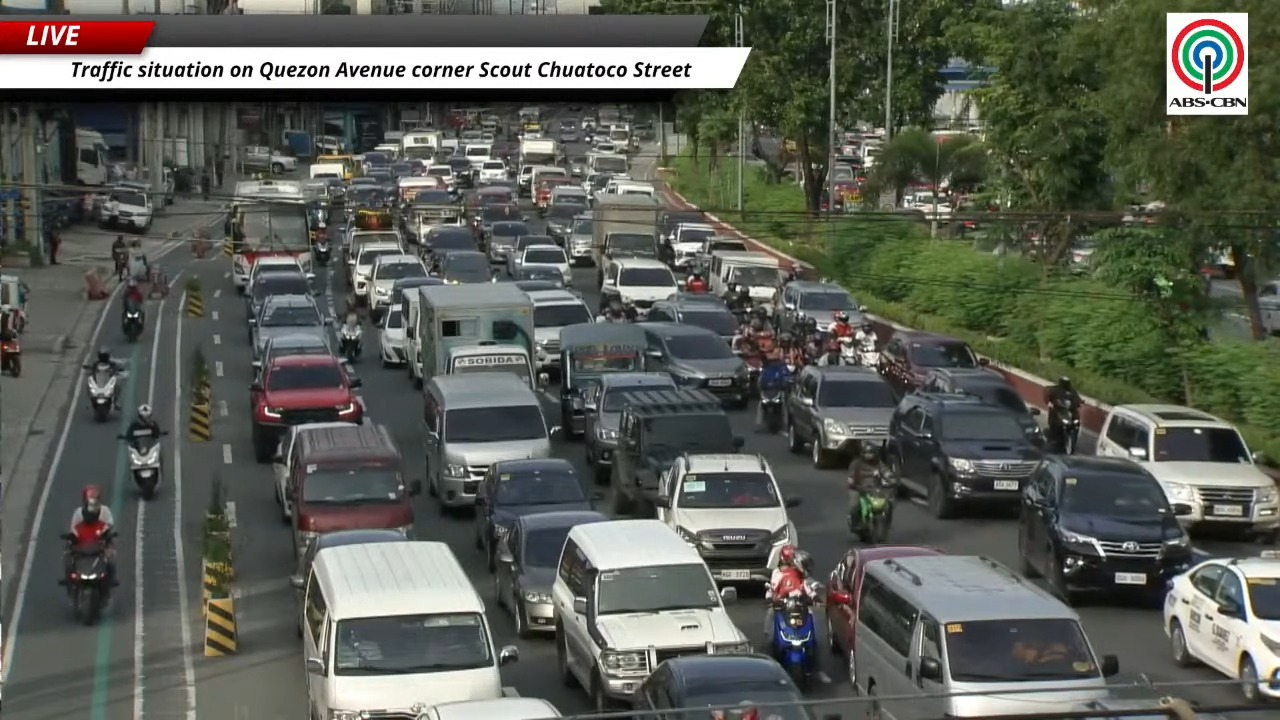bus: (228, 180, 311, 291), (314, 155, 357, 181)
car: (1018, 455, 1192, 604), (1096, 404, 1279, 543), (884, 392, 1044, 519), (655, 453, 800, 585), (1163, 551, 1279, 702), (824, 545, 942, 685), (475, 458, 593, 571), (632, 653, 814, 719), (250, 356, 363, 462), (786, 366, 897, 468), (290, 530, 409, 616), (583, 372, 675, 483), (639, 322, 750, 406), (923, 367, 1043, 442), (272, 421, 352, 523), (879, 330, 987, 393), (526, 290, 593, 371), (251, 295, 329, 359), (600, 257, 679, 318), (775, 280, 864, 333), (648, 297, 739, 343), (369, 254, 427, 321), (244, 269, 313, 324), (252, 334, 332, 375), (352, 242, 404, 305), (544, 186, 588, 246), (508, 244, 571, 285), (101, 184, 153, 233), (485, 220, 534, 262), (474, 202, 522, 242), (420, 226, 478, 258), (377, 304, 406, 366), (437, 251, 492, 283), (246, 256, 304, 286), (390, 276, 442, 306), (565, 212, 593, 265), (511, 267, 565, 288), (666, 291, 726, 308), (448, 157, 479, 189), (427, 163, 456, 193), (512, 235, 554, 253), (478, 159, 508, 184), (513, 279, 562, 292)
motorcycle: (60, 532, 112, 625), (770, 593, 818, 689), (119, 431, 166, 500), (849, 478, 896, 544), (86, 366, 124, 422), (1050, 405, 1080, 454), (735, 348, 762, 392), (759, 388, 784, 433), (338, 323, 361, 363), (0, 337, 21, 377), (122, 307, 144, 342), (838, 337, 858, 366), (857, 342, 879, 368), (112, 249, 127, 281), (313, 239, 330, 265), (596, 315, 628, 323)
truck: (409, 284, 537, 386), (592, 194, 661, 279), (75, 127, 109, 186), (399, 130, 442, 162), (519, 139, 559, 166)
